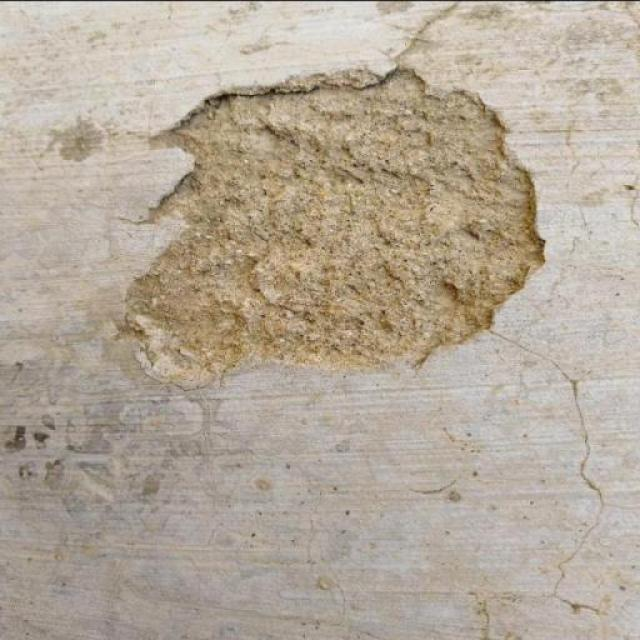D10: (119, 64, 544, 384)
